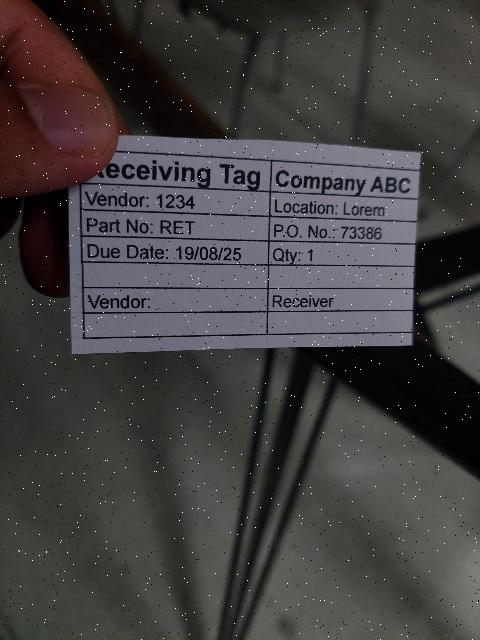PO no: (267, 216, 418, 245)
part no: (81, 209, 270, 244)
qty: (267, 240, 417, 266)
tags: (67, 135, 423, 358)
